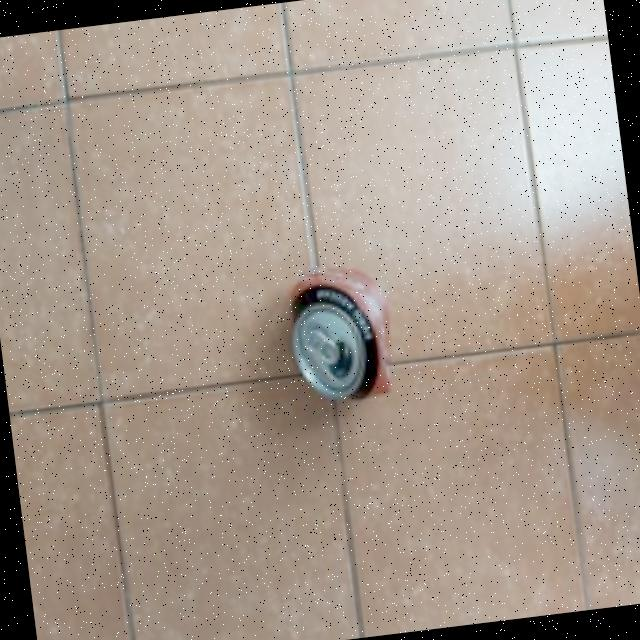Metal: (282, 258, 401, 410)
